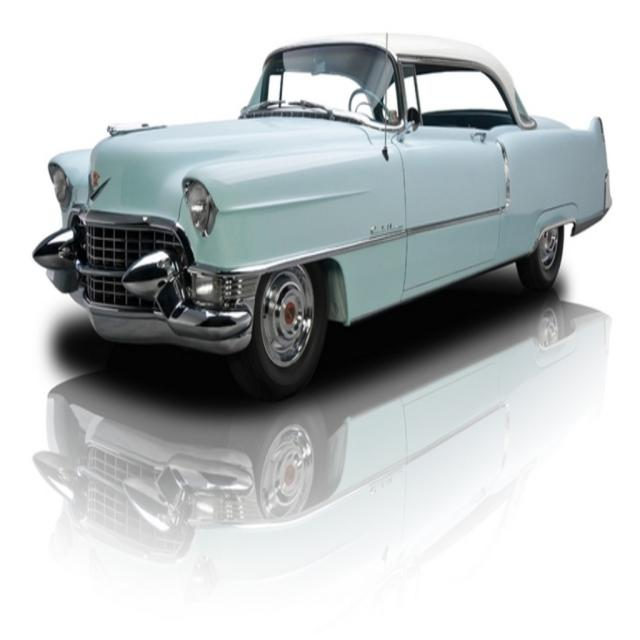car: (30, 27, 611, 397)
